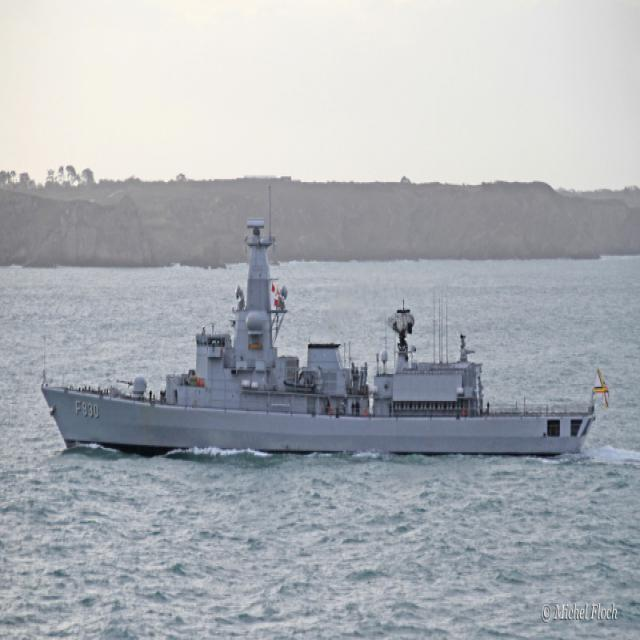Fragata: (37, 212, 610, 465)
